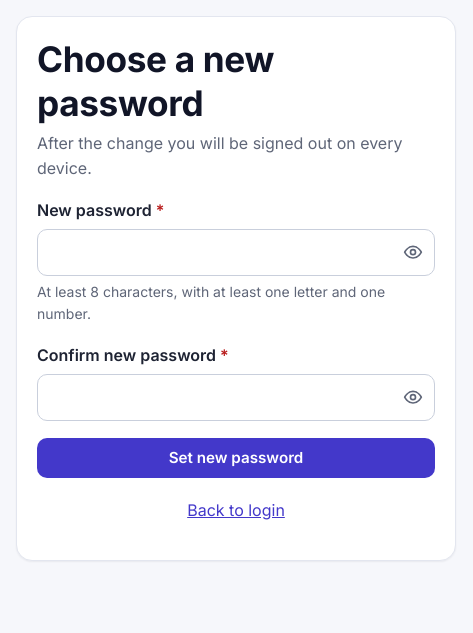
Scenario: ResetPasswordPage › checks the password policy and confirmation before sending
This screenshot has width=473, height=633.
Type "short" into the password field labelled "New password *". click: x=236, y=252
box: [37,229,435,276]
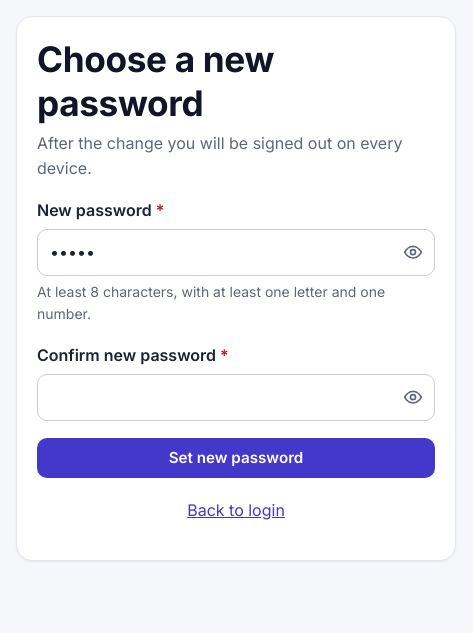
Click the button "Set new password". click: x=236, y=458
box: [37,438,435,478]
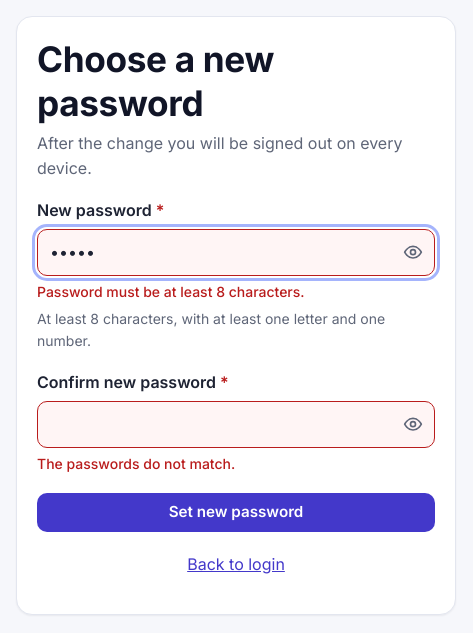
Expected: the text "Password must be at least 8 characters." is shown, [37,282,305,300]
Type "NewPass456" into the password field labelled "New password *". click: x=236, y=252
box: [37,229,435,276]
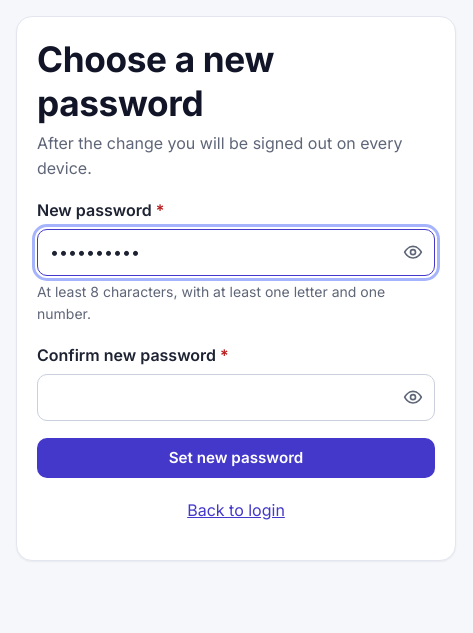
Type "NewPass457" into the password field labelled "Confirm new password *". click: x=236, y=398
box: [37,374,435,421]
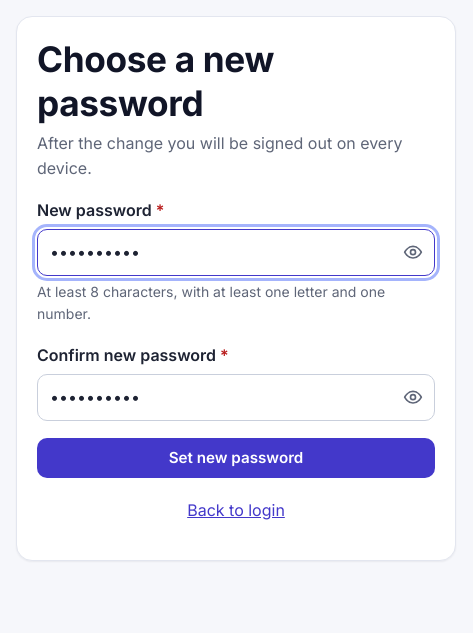
Click the button "Set new password". click: x=236, y=458
box: [37,438,435,478]
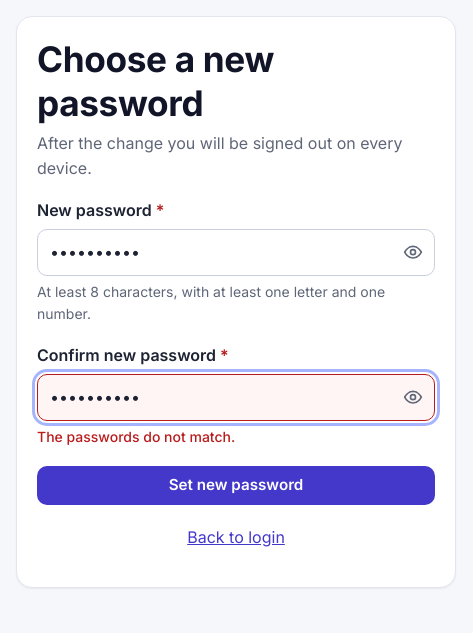
Expected: the text "The passwords do not match." is shown, [37,428,235,445]
